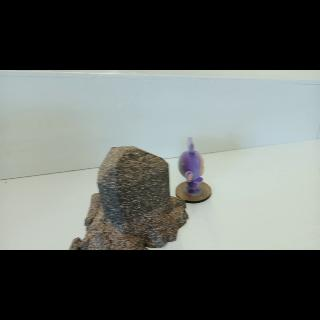teletubby: (179, 137, 203, 193)
